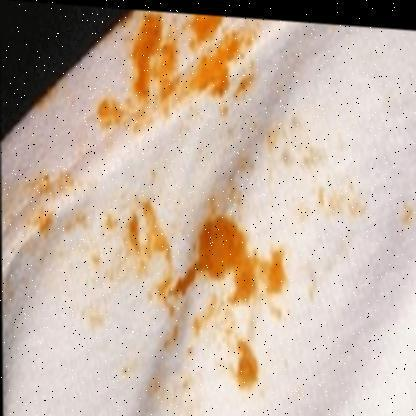kimchi: (20, 165, 323, 398), (95, 77, 241, 136), (131, 9, 240, 77), (214, 108, 335, 165), (326, 179, 416, 239), (242, 23, 273, 85)
